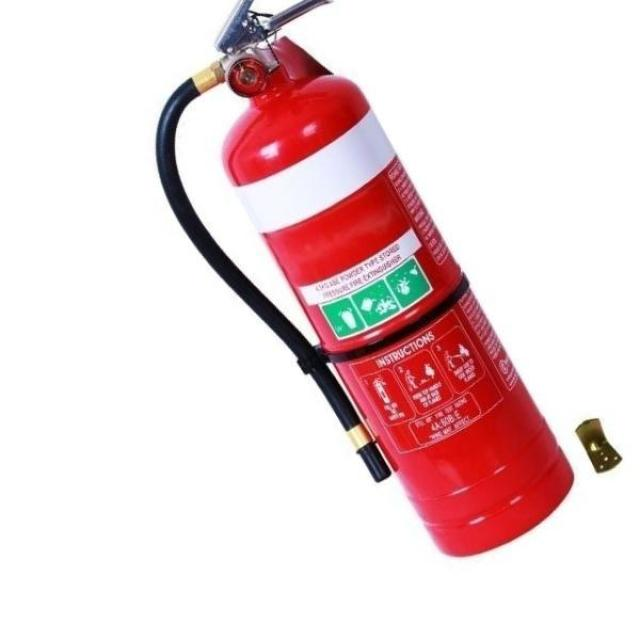fire_extinguisher: (152, 0, 579, 560)
